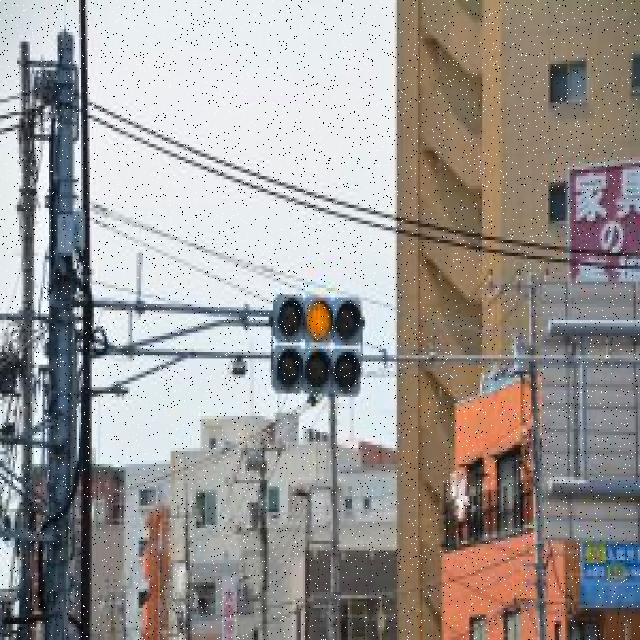Yellow-traffic-light: (299, 293, 335, 340)
